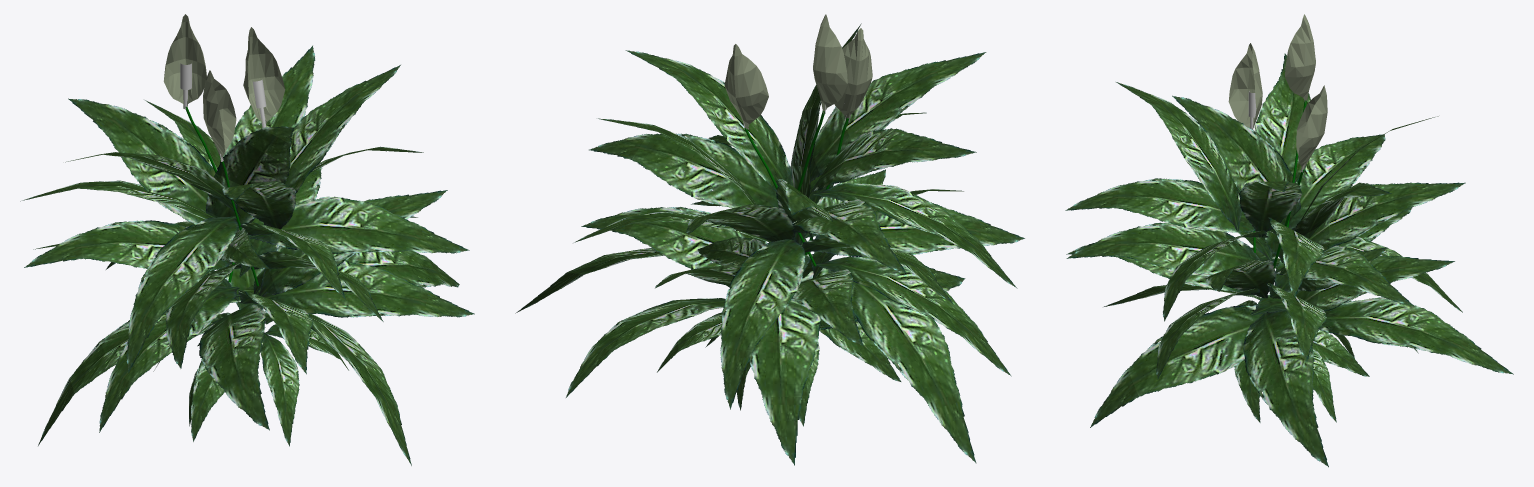
Rendered from Spathaphylum.fbx.
3 views of the same model, side by side, from view 1: azimuth 30°, elevation 25°; view 2: azimuth 150°, elevation 25°; view 3: azimuth 270°, elevation 25° (orthographic). The views are drawn at different scales.
Visible parts, largest first — view 1: spath_leaf15, spath_leaf18, spath_leaf23, spath_leaf29, spath_leaf5, spath_leaf9, spath_leaf19, spath_leaf21, spath_leaf26, spath_leaf6, spath_leaf7, spath_leaf22 (+22 smaller); view 2: spath_leaf4, spath_leaf8, spath_leaf16, spath_leaf3, spath_leaf24, spath_leaf19, spath_leaf26, spath_leaf18, spath_leaf20, spath_leaf30, spath_leaf14, spath_leaf2 (+19 smaller); view 3: spath_leaf6, spath_leaf1, spath_leaf2, spath_leaf12, spath_leaf13, spath_leaf21, spath_leaf24, spath_leaf17, spath_leaf14, spath_leaf20, spath_leaf10, spath_leaf25 (+18 smaller).
Part boxes in pixels (box(x1,y1,x2,y2)): spath_leaf15: box(250, 196, 469, 253); spath_leaf18: box(126, 216, 238, 372); spath_leaf23: box(68, 98, 238, 232); spath_leaf29: box(262, 261, 474, 317); spath_leaf5: box(199, 304, 269, 430); spath_leaf9: box(24, 220, 235, 270); spath_leaf19: box(264, 65, 400, 225); spath_leaf21: box(205, 126, 294, 228); spath_leaf26: box(99, 286, 239, 432); spath_leaf6: box(309, 314, 411, 465); spath_leaf7: box(258, 190, 447, 296); spath_leaf22: box(223, 45, 315, 156); spath_leaf4: box(828, 269, 976, 463); spath_leaf8: box(720, 238, 805, 409); spath_leaf16: box(589, 133, 778, 211); spath_leaf3: box(749, 281, 820, 465); spath_leaf24: box(810, 52, 986, 182); spath_leaf19: box(625, 50, 792, 191); spath_leaf26: box(816, 256, 1011, 376); spath_leaf18: box(813, 183, 1017, 288); spath_leaf20: box(811, 128, 976, 192); spath_leaf30: box(581, 207, 787, 279); spath_leaf14: box(792, 199, 906, 273); spath_leaf2: box(566, 298, 725, 397); spath_leaf6: box(1090, 305, 1263, 427); spath_leaf1: box(1243, 310, 1328, 467); spath_leaf2: box(1319, 297, 1513, 374); spath_leaf12: box(1066, 222, 1260, 276); spath_leaf13: box(1065, 178, 1255, 232); spath_leaf21: box(1172, 95, 1300, 230); spath_leaf24: box(1116, 82, 1241, 231); spath_leaf17: box(1284, 182, 1465, 265); spath_leaf14: box(1278, 134, 1385, 234); spath_leaf20: box(1254, 53, 1310, 182); spath_leaf10: box(1275, 245, 1412, 304); spath_leaf25: box(1296, 255, 1454, 311).
Bounding box in the file's own units: 84.49 × 73.81 × 82.5.
